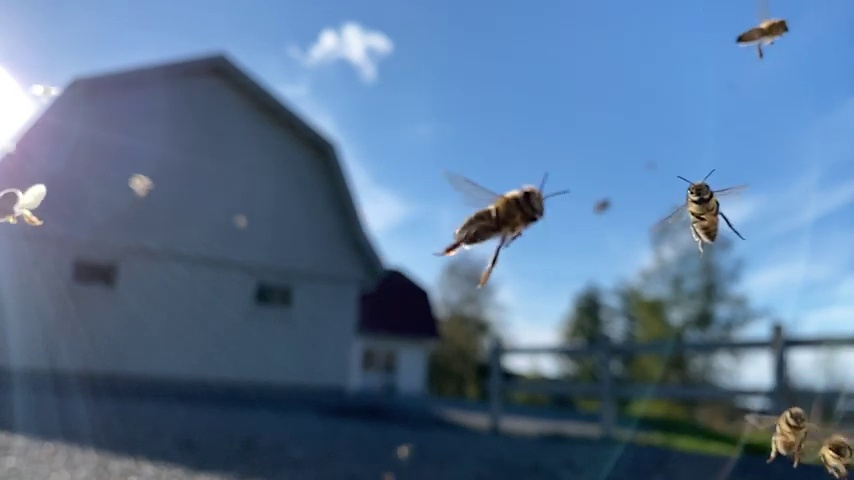insect: (433, 168, 566, 285), (646, 172, 755, 252), (747, 403, 854, 478), (732, 18, 788, 58)
